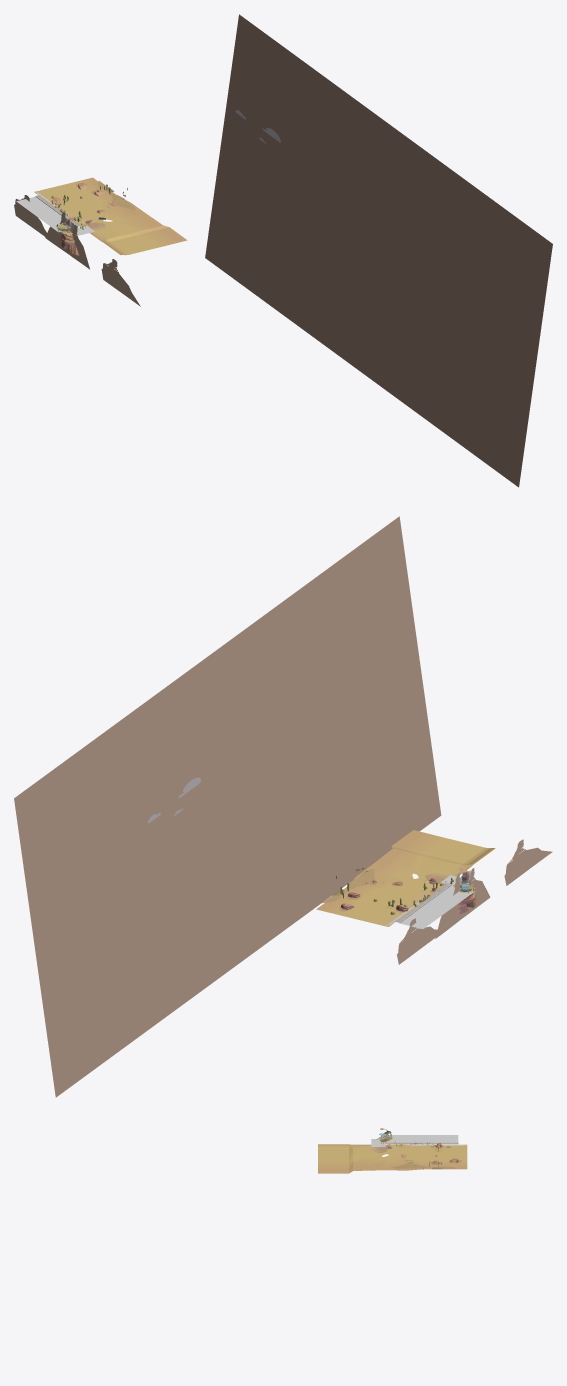
File: HankYardCombined.glb
3 renders of one model, top to bottom at view 1: azimuth 30°, elevation 25°; view 2: azimuth 150°, elevation 25°; view 3: azimuth 270°, elevation 25°, orthographic. The views are drawn at different scales.
Parts seen in each view (by area): view 1: Background_Gradient_Tom, Van_Ground_L0_L1_L2_L3_L4_L5, mountain3, Background_HankRoad; view 2: Background_Gradient_Tom, Van_Ground_L0_L1_L2_L3_L4_L5, mountain3, Background_HankRoad; view 3: Van_Ground_L0_L1_L2_L3_L4_L5, Background_HankRoad.
Boxes of the visible parts, x1,y1,x2,y2 form: Background_Gradient_Tom: (205, 14, 552, 487); Van_Ground_L0_L1_L2_L3_L4_L5: (34, 177, 187, 255); mountain3: (14, 195, 140, 306); Background_HankRoad: (16, 196, 61, 232); Background_Gradient_Tom: (14, 516, 441, 1097); Van_Ground_L0_L1_L2_L3_L4_L5: (316, 830, 495, 926); mountain3: (397, 839, 552, 964); Background_HankRoad: (400, 885, 474, 928); Van_Ground_L0_L1_L2_L3_L4_L5: (318, 1144, 467, 1173); Background_HankRoad: (386, 1135, 458, 1142).
Size of the model in its own units: 53.88 by 43.49 by 105.
